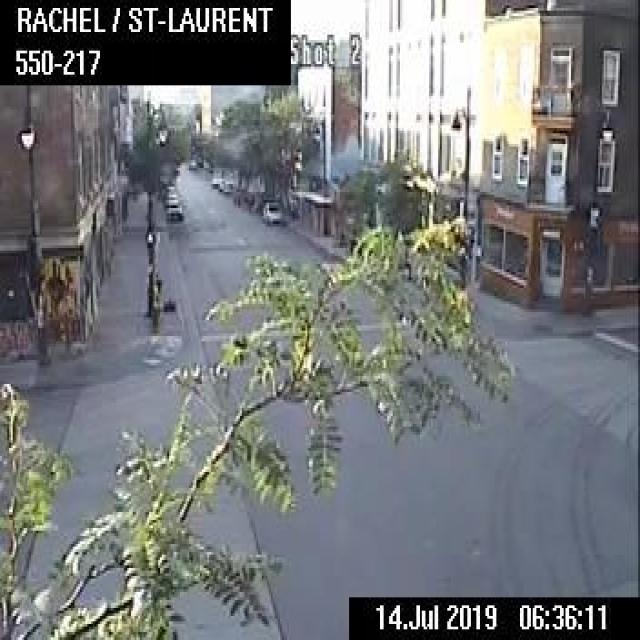vehicle: (261, 201, 283, 221), (163, 198, 181, 220), (222, 180, 233, 192), (210, 176, 220, 186)
